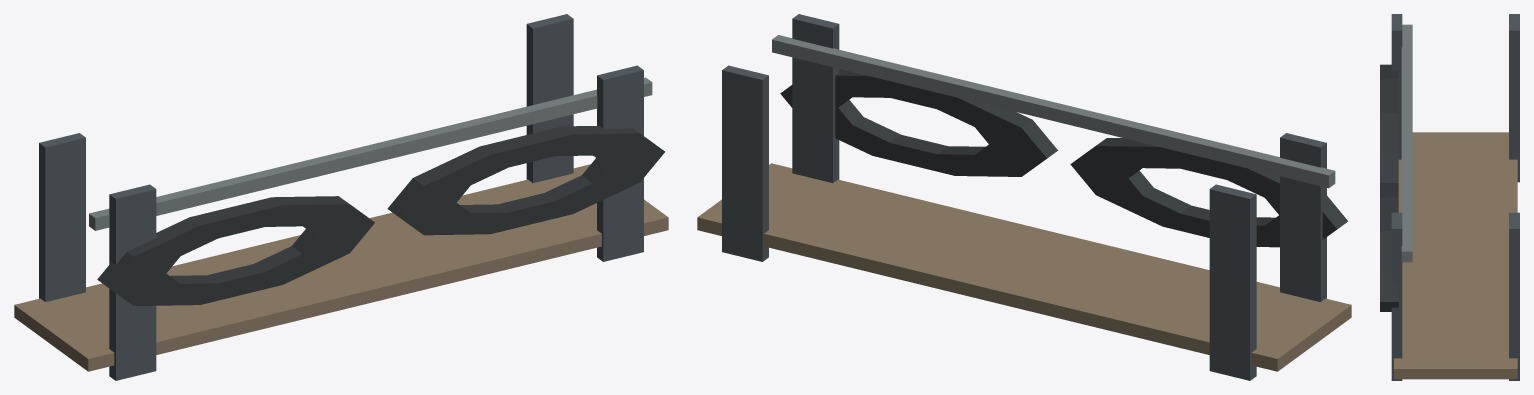
The model's file is hose_rack.glb.
3 views of the same model, side by side, from view 1: azimuth 30°, elevation 25°; view 2: azimuth 150°, elevation 25°; view 3: azimuth 270°, elevation 25° (orthographic). The views are drawn at different scales.
Parts seen in each view (by area): view 1: hose_rack; view 2: hose_rack; view 3: hose_rack.
Part boxes in pixels (bbox=[...]): hose_rack: bbox=[14, 14, 668, 380]; hose_rack: bbox=[697, 14, 1351, 380]; hose_rack: bbox=[1380, 14, 1519, 380].
Bounding box in the file's own units: 3.84 × 1.15 × 0.96.
